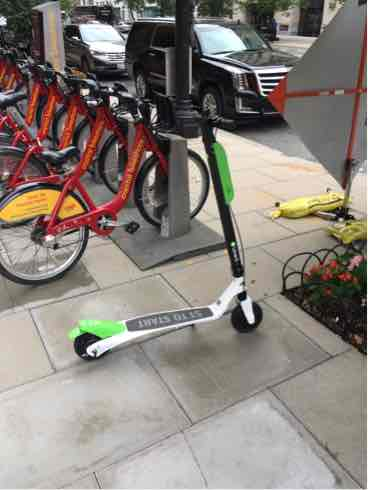scooter: (59, 87, 268, 377)
